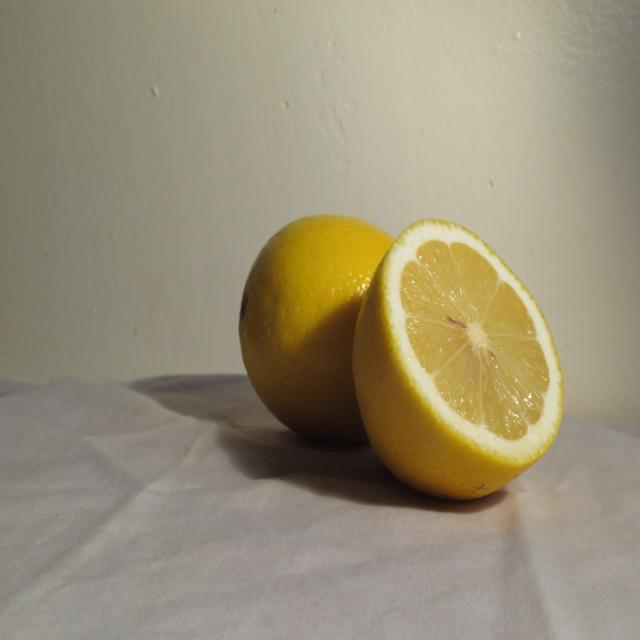Quả chanh: (238, 213, 396, 444)
